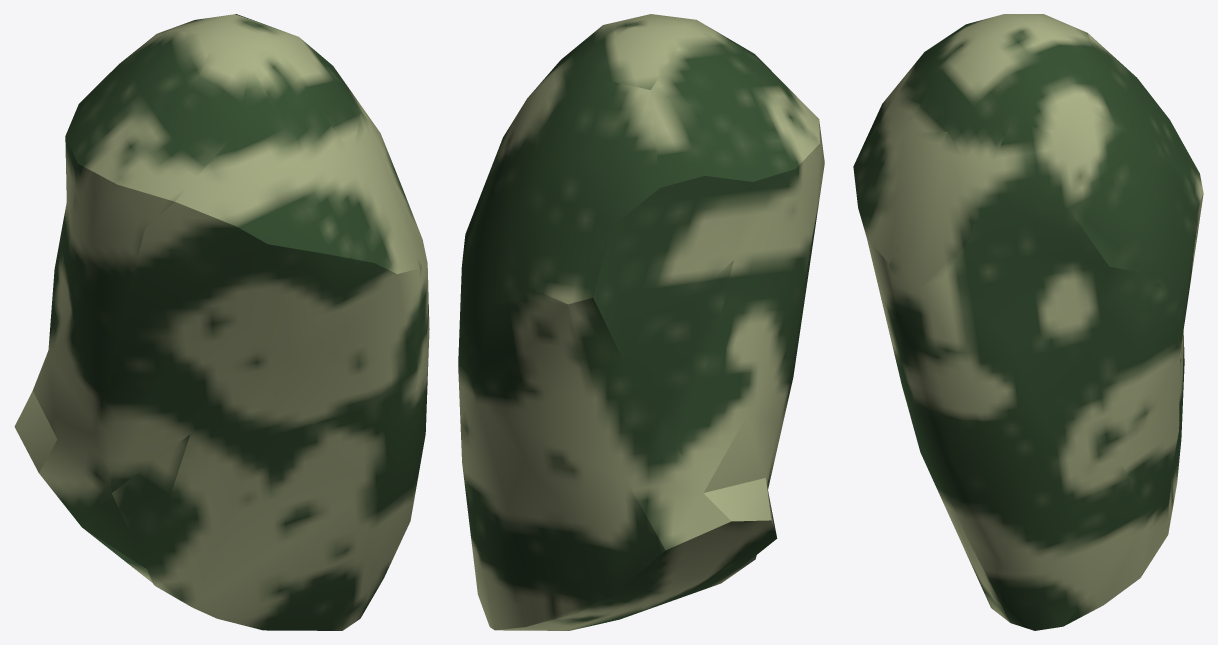
File: link_leg_1_L_1.obj
3 views of the same model, side by side, from view 1: azimuth 30°, elevation 25°; view 2: azimuth 150°, elevation 25°; view 3: azimuth 270°, elevation 25° (orthographic). The views are drawn at different scales.
Parts seen in each view (by area): view 1: link_leg_1_L_1; view 2: link_leg_1_L_1; view 3: link_leg_1_L_1.
Part boxes in pixels (x1,y1,x2,y2): link_leg_1_L_1: [14, 14, 429, 630]; link_leg_1_L_1: [458, 14, 824, 630]; link_leg_1_L_1: [853, 14, 1203, 630].
Size of the model in its own units: 4.72 by 8.52 by 4.93.
